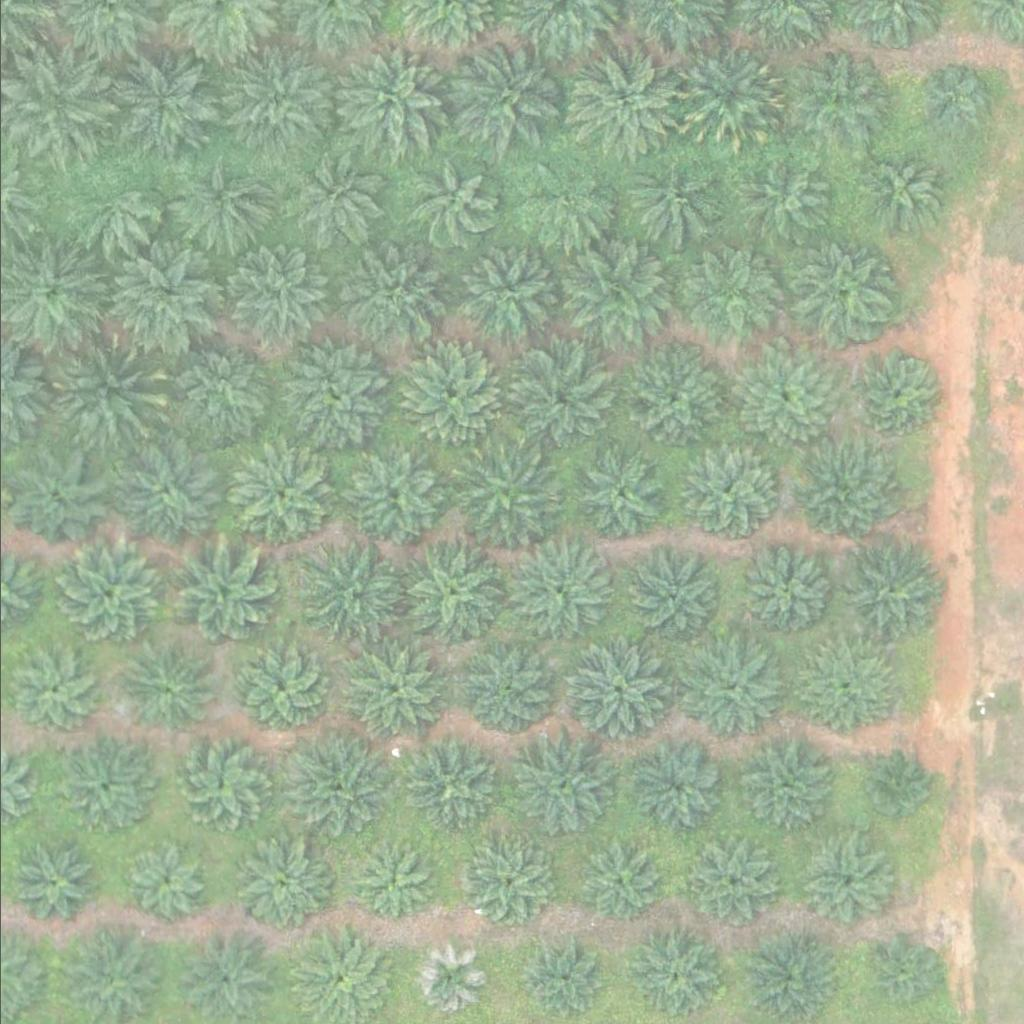Kelapa_Sawit: (726, 342, 840, 455), (614, 346, 728, 459), (450, 443, 564, 556), (393, 535, 507, 648), (294, 543, 408, 656), (671, 40, 784, 153), (567, 44, 680, 157), (450, 39, 563, 152), (328, 43, 441, 156), (220, 241, 333, 354), (504, 730, 617, 843), (163, 537, 276, 650), (53, 539, 166, 652), (106, 243, 219, 356), (500, 533, 614, 645), (278, 730, 392, 842), (220, 46, 333, 158), (557, 244, 670, 356), (449, 242, 562, 354), (500, 346, 613, 458), (276, 345, 389, 457), (830, 537, 943, 649), (560, 637, 673, 749), (160, 336, 273, 448), (45, 335, 158, 447), (105, 45, 218, 157), (786, 48, 887, 148), (337, 250, 438, 350), (401, 348, 502, 448), (787, 445, 888, 545), (344, 450, 445, 550), (728, 546, 829, 646), (622, 548, 723, 648), (790, 639, 891, 739), (684, 641, 785, 741), (732, 735, 833, 835), (624, 738, 725, 838), (400, 736, 501, 836), (794, 832, 895, 932), (116, 639, 217, 739), (229, 443, 330, 543), (117, 440, 218, 540), (1, 449, 102, 549), (171, 155, 272, 255), (788, 241, 888, 341), (678, 254, 778, 354), (679, 445, 779, 545), (568, 448, 668, 548), (457, 640, 557, 740), (340, 642, 440, 742), (233, 836, 333, 936), (171, 735, 271, 835), (55, 739, 155, 839), (230, 639, 330, 739), (682, 840, 771, 928), (855, 148, 943, 236), (625, 159, 713, 247), (740, 934, 828, 1022), (627, 931, 715, 1019), (116, 839, 204, 927), (67, 164, 155, 252), (735, 164, 823, 251), (521, 163, 609, 250), (407, 158, 495, 245), (291, 159, 379, 246), (852, 349, 940, 436), (569, 837, 657, 924), (459, 840, 547, 927), (9, 648, 97, 735), (354, 846, 430, 921), (11, 848, 87, 923), (522, 940, 597, 1015), (408, 942, 483, 1017), (869, 941, 932, 1004), (867, 758, 930, 821), (922, 66, 985, 129)
